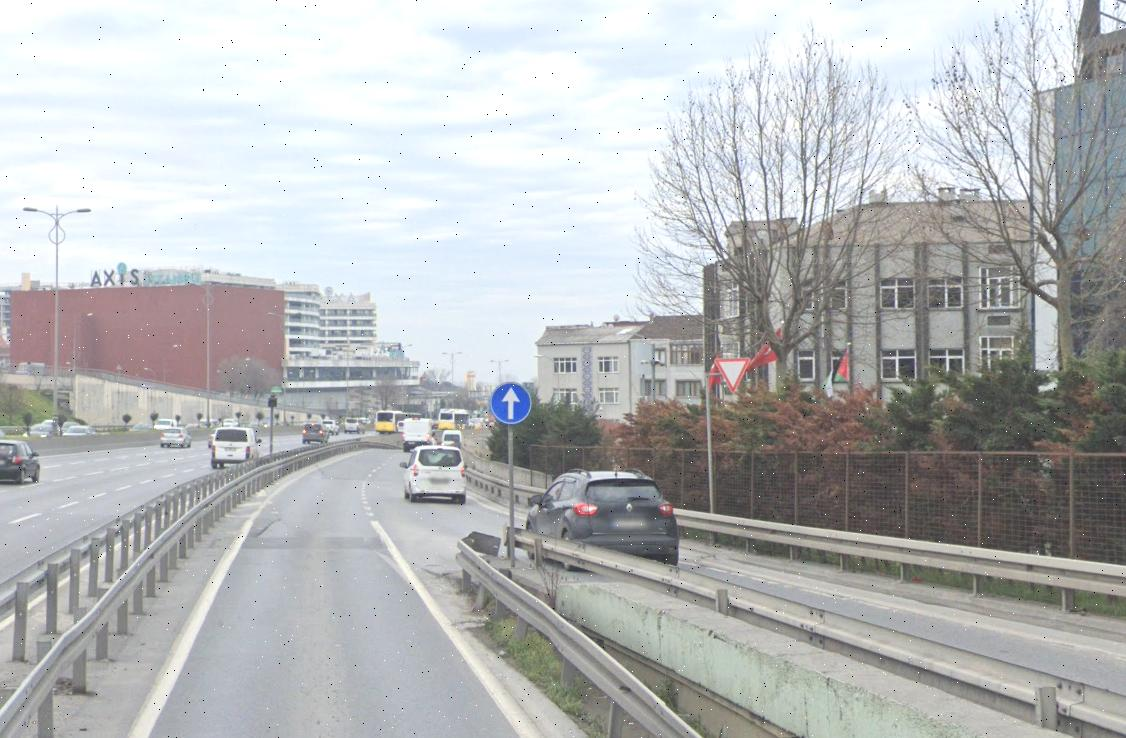forward: (486, 378, 538, 432)
